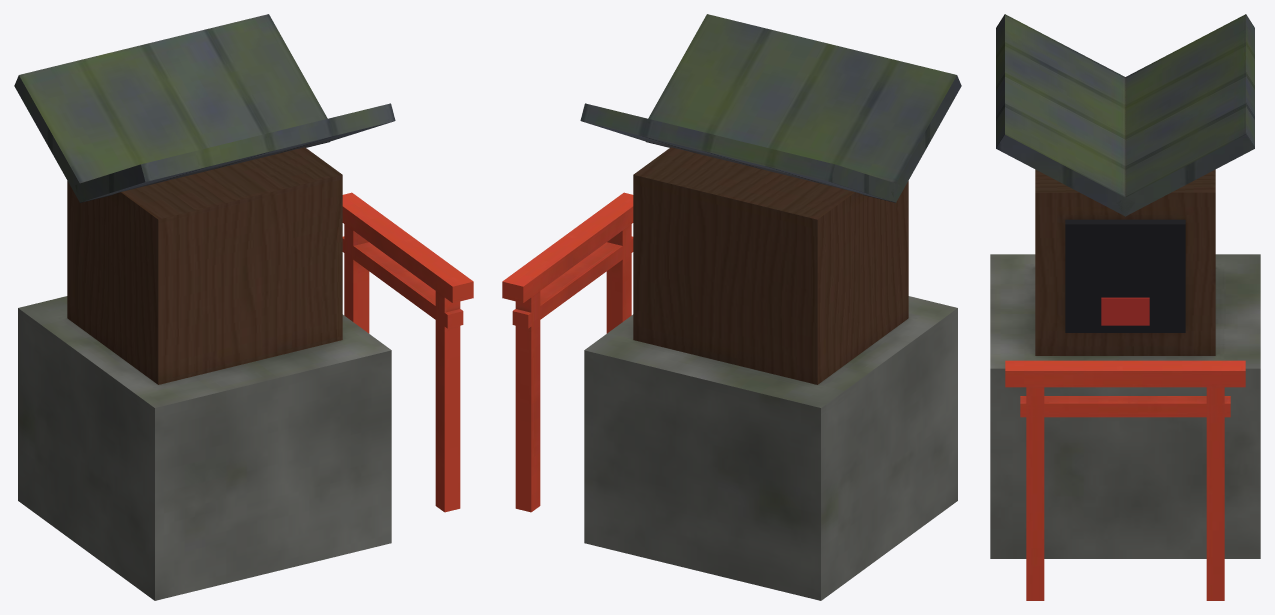
The model's file is hokora_tex.glb.
The picture shows the model from 3 angles, left to right: view 1: azimuth 30°, elevation 25°; view 2: azimuth 150°, elevation 25°; view 3: azimuth 270°, elevation 25°; orthographic projection.
Parts seen in each view (by area): view 1: hokora; view 2: hokora; view 3: hokora.
Boxes of the visible parts, <box> form: hokora: <box>14,14,473,600</box>; hokora: <box>502,14,961,600</box>; hokora: <box>990,14,1260,600</box>.
Size of the model in its own units: 1.27 by 1.57 by 0.9.
Materials: 7 (5 with a texture image).
